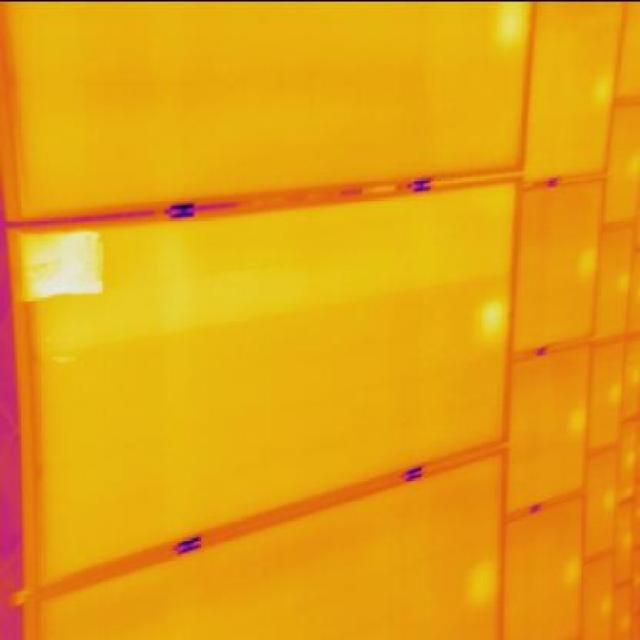hotspot: (17, 217, 112, 306)
